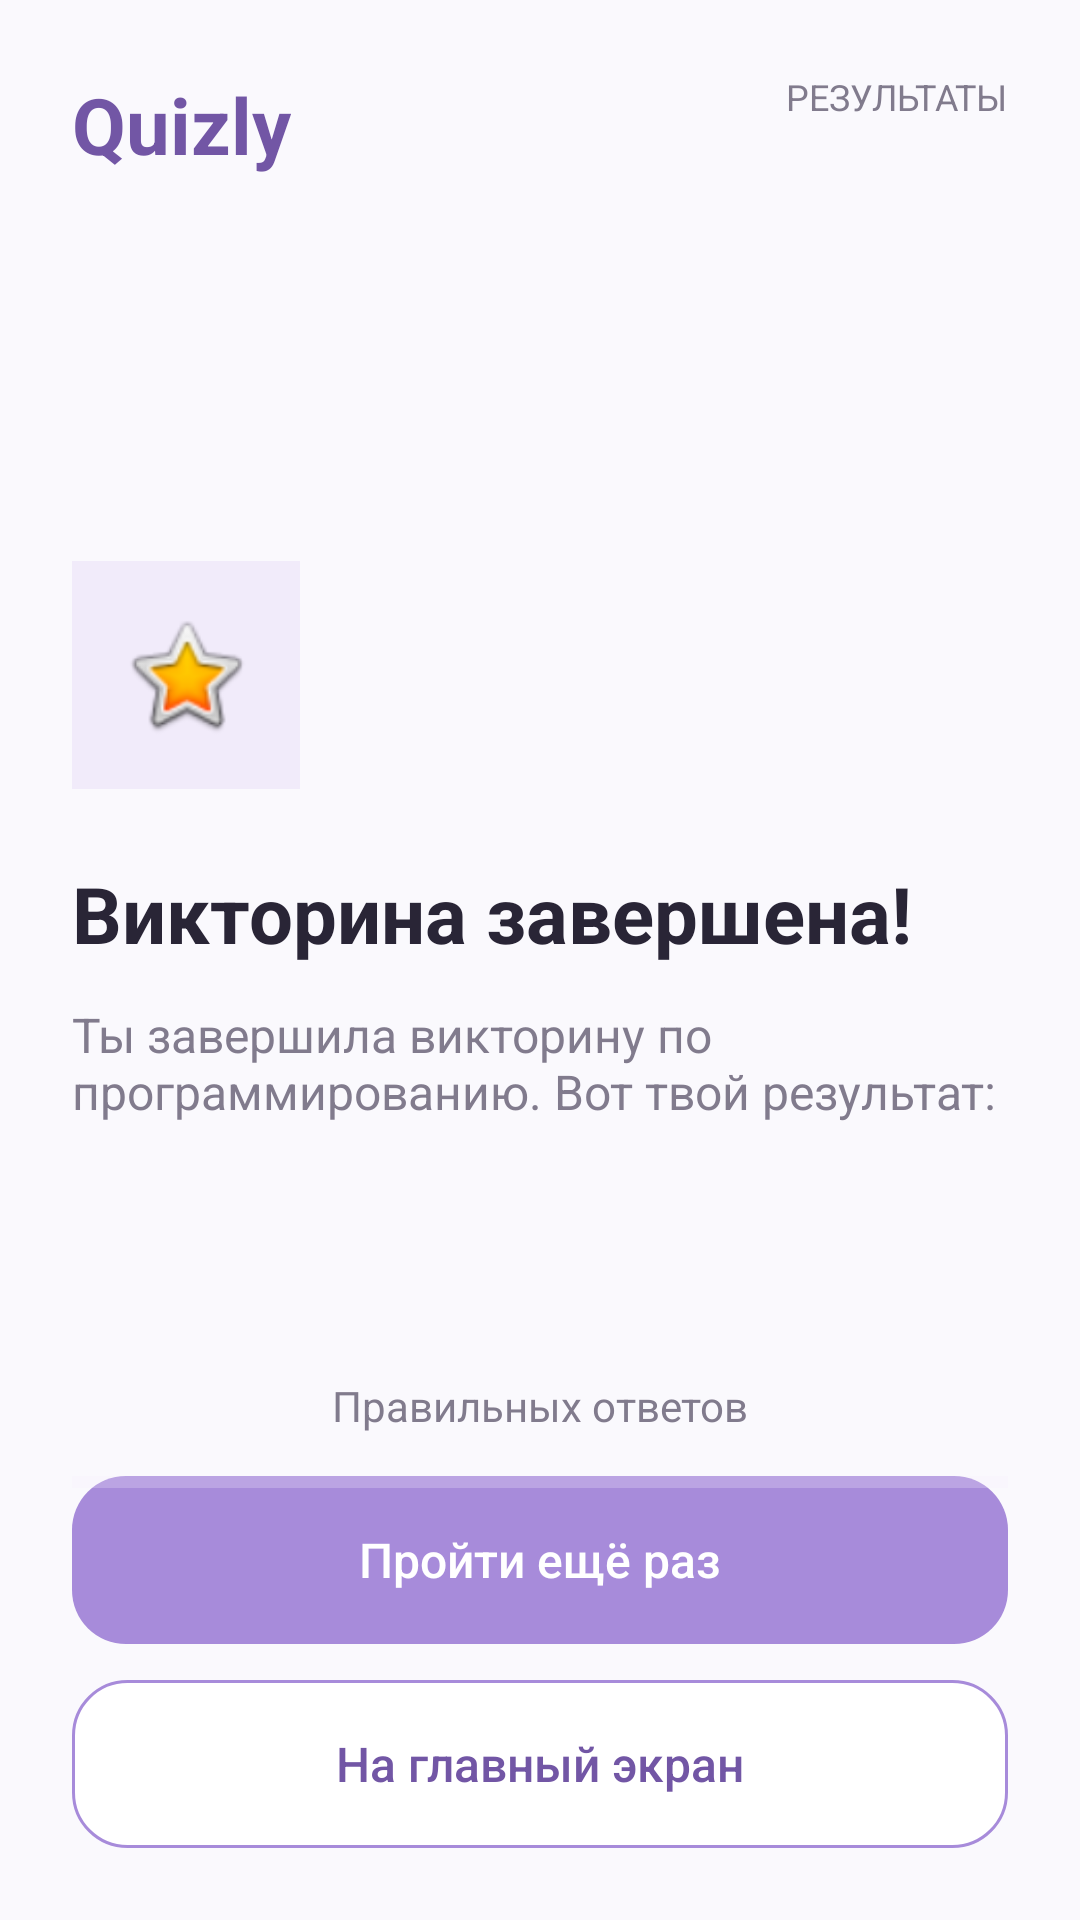

Where icons sit on this 1080px x 1920px app screen, as (x1, y1, x2, y2):
Значок награды: (131, 621, 243, 731)
